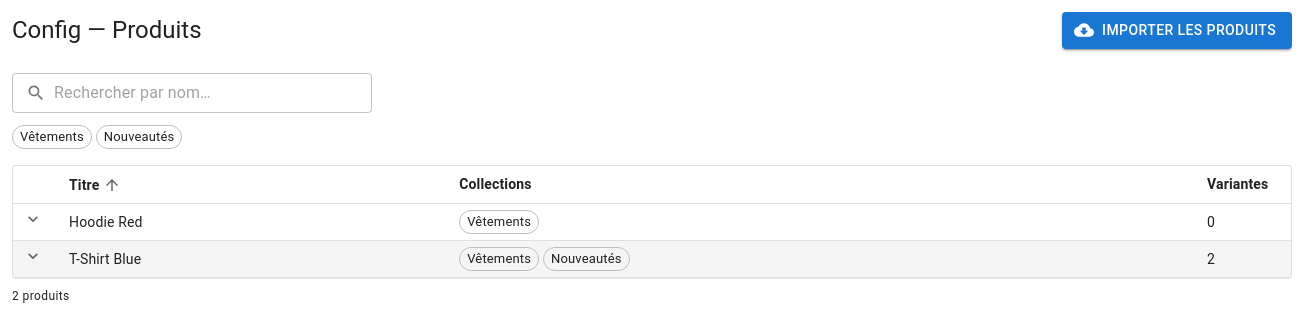
ConfigProductsPage › deselects collection filter on second click
Click the button "Nouveautés" at (139, 136), box [96, 124, 182, 148]
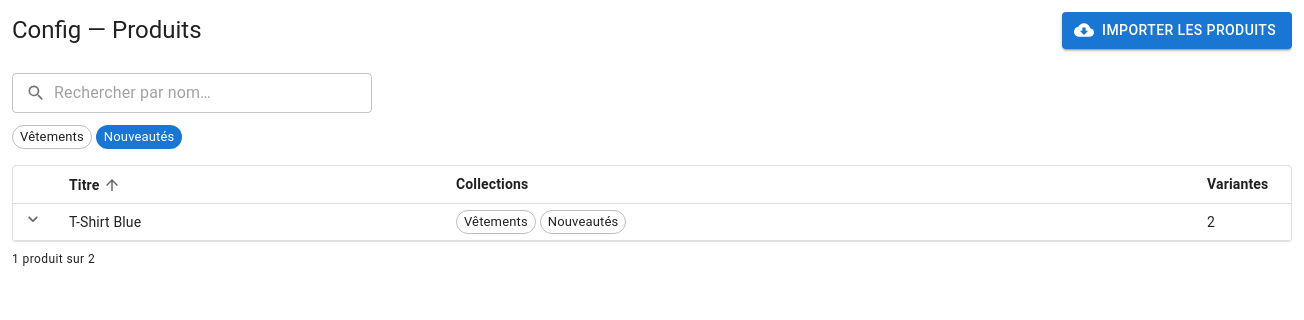
Check: the text "Hoodie Red" is gone
Click the button "Nouveautés" at (139, 136), box [96, 124, 182, 148]
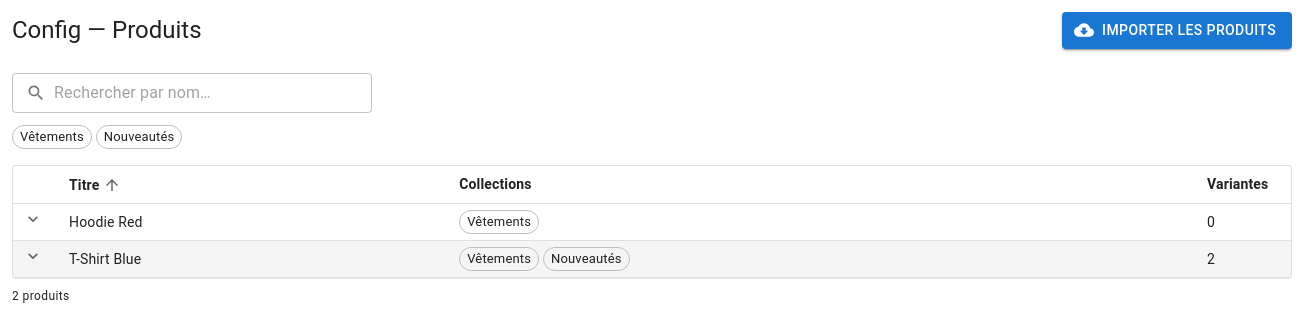
Check: the text "Hoodie Red" is shown, box [53, 203, 443, 240]
